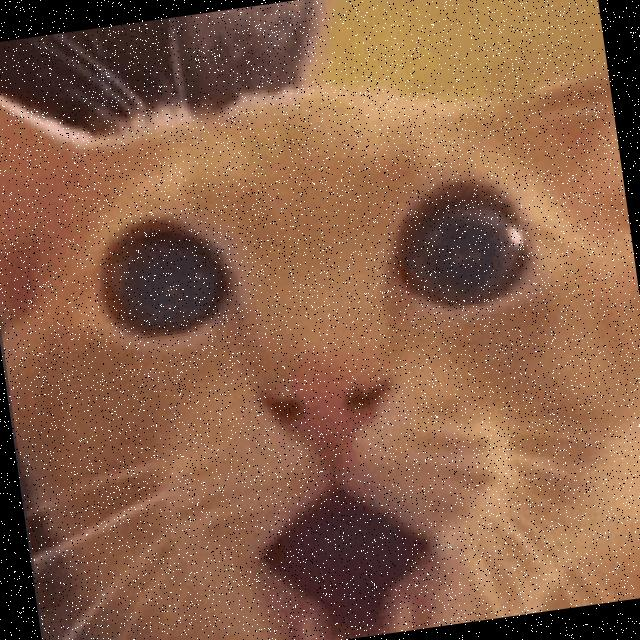Surprised: (54, 126, 612, 640)
